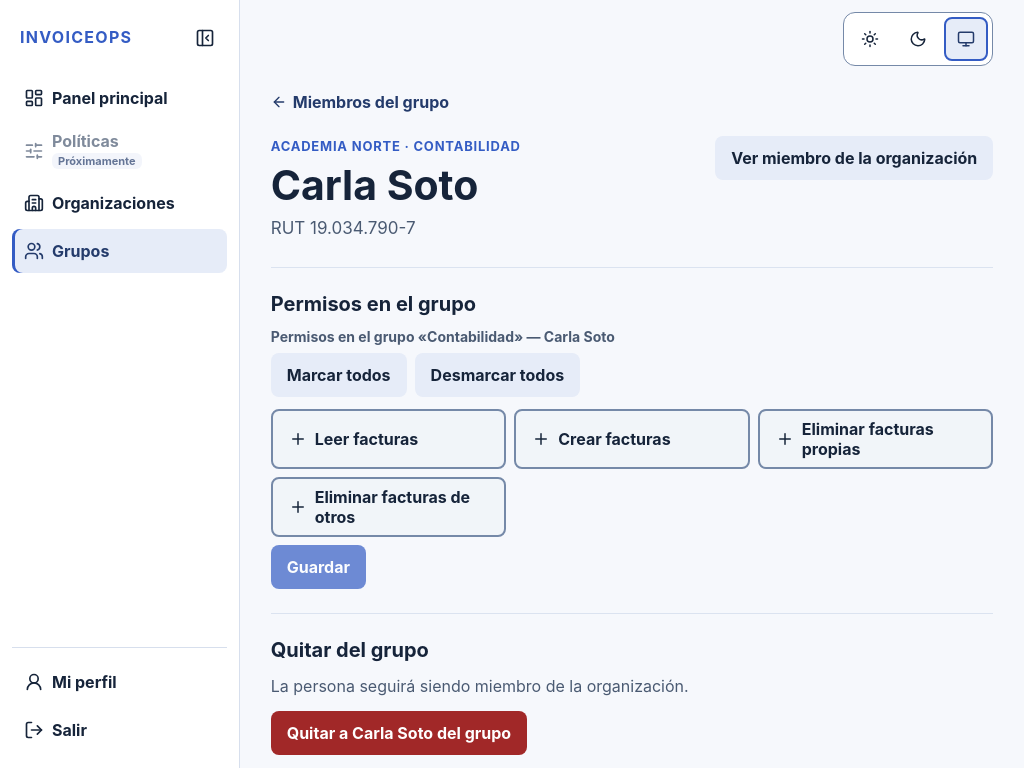
Test: CR-216 flows navigate only after the lists are fresh › removing a group member waits for the group's refetch before going to its list
The width and height of the screenshot is (1024, 768).
Click the button "Quitar a Carla Soto del grupo".
click(399, 733)  # box [271,711,527,755]
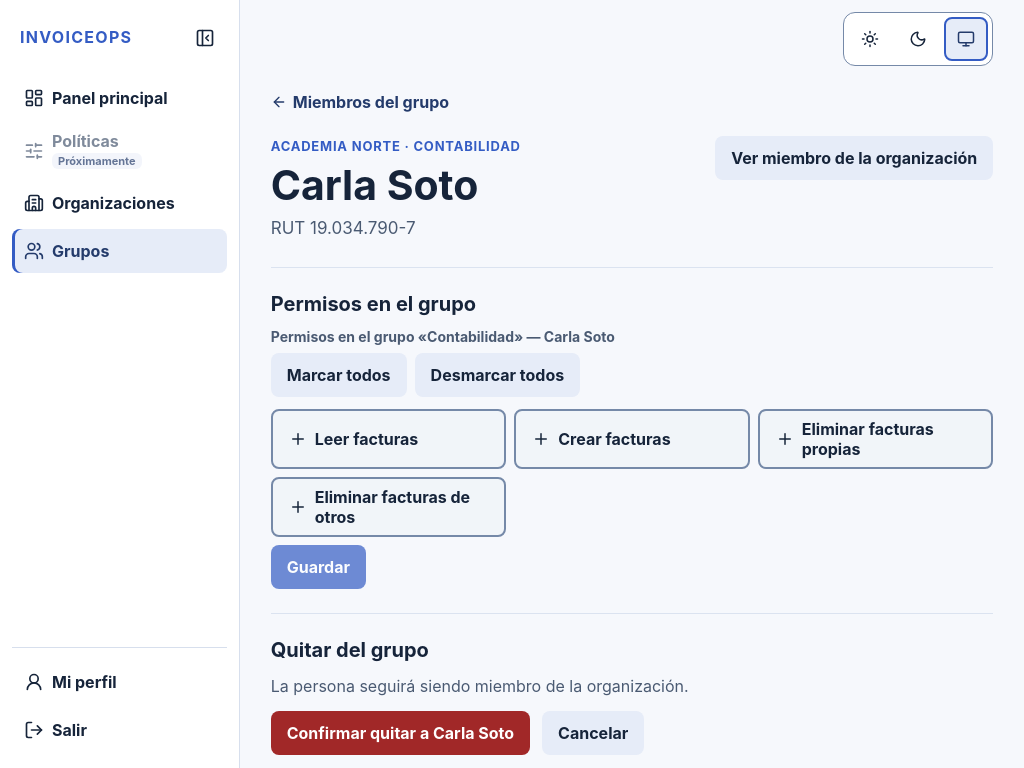
Click the button "Confirmar quitar a Carla Soto".
click(400, 733)  # box [271,711,530,755]
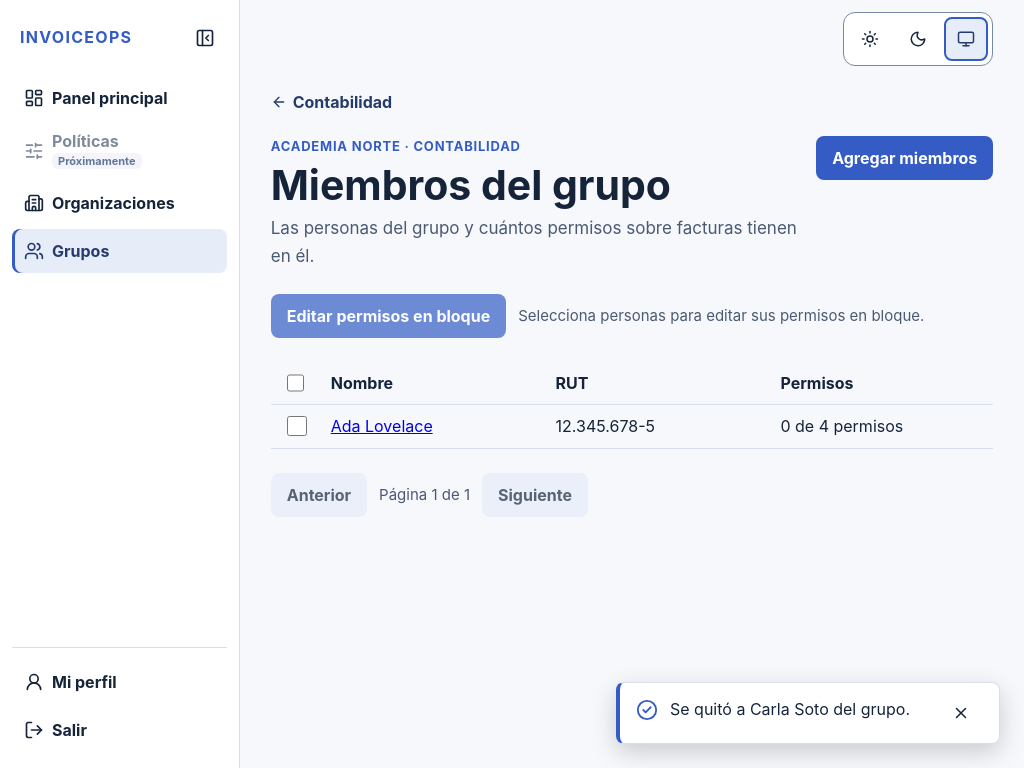
Now the text "Se quitó a Carla Soto del grupo." is shown, box [670,697,927,723]
